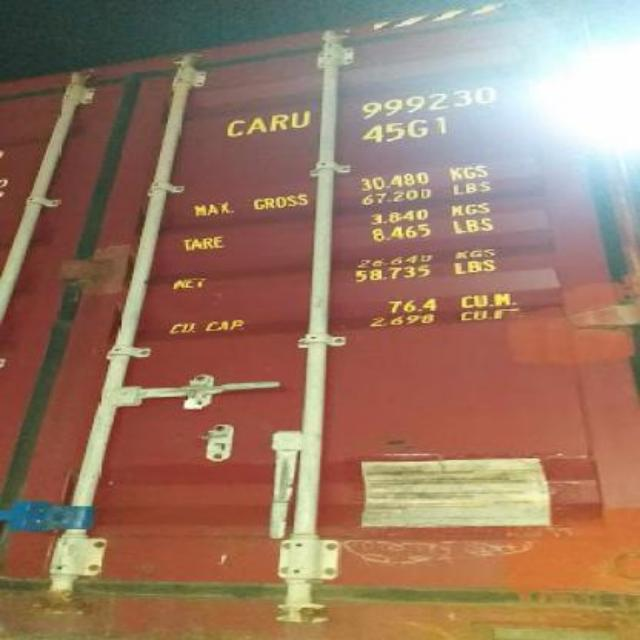0: (474, 84, 500, 106)
2: (426, 89, 448, 107)
3: (452, 85, 470, 109)
9: (354, 100, 384, 122), (380, 98, 406, 119), (404, 94, 426, 115)
A: (244, 113, 266, 139)
C: (222, 114, 246, 138)
R: (270, 111, 288, 135)
U: (292, 107, 310, 131)
